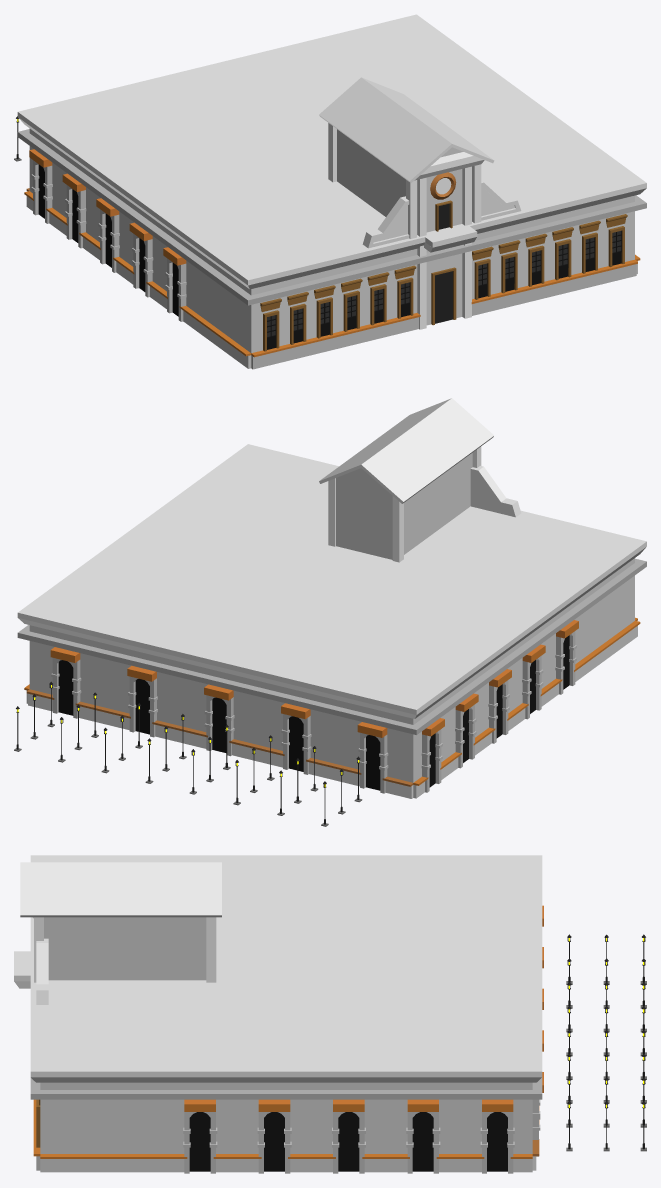
Rendered from ArtMuseum.glb.
The picture shows the model from 3 angles, top to bottom: view 1: azimuth 30°, elevation 25°; view 2: azimuth 150°, elevation 25°; view 3: azimuth 270°, elevation 25°; orthographic projection. The views are drawn at different scales.
Parts seen in each view (by area): view 1: Cube.007, Cube.001, Cube.002, Cube.004, Cube.006, Plane.002, Cube.003, Cube.005, Cube.009, Plane, Circle; view 2: Cube.007, Cube.001, Cube.004, Plane.003, Cube.006, Plane.002, Cube.003, Cube.009, Farol.001, Cube.005; view 3: Cube.007, Cube.001, Cube.004, Plane.002, Cube.008, Cube.006, Farol.001, Cube.005, Cube.003, Plane.003.
Boxes of the visible parts, left/top/right/bottom form: Cube.007: left=17, top=14, right=646, bottom=289; Cube.001: left=29, top=128, right=634, bottom=353; Cube.002: left=260, top=214, right=627, bottom=351; Cube.004: left=319, top=77, right=521, bottom=248; Cube.006: left=17, top=129, right=646, bottom=305; Plane.002: left=29, top=149, right=186, bottom=321; Cube.003: left=26, top=188, right=637, bottom=369; Cube.005: left=328, top=123, right=484, bottom=329; Cube.009: left=24, top=191, right=251, bottom=368; Plane: left=431, top=267, right=456, bottom=325; Circle: left=430, top=172, right=456, bottom=199; Cube.007: left=17, top=444, right=646, bottom=718; Cube.001: left=29, top=453, right=634, bottom=782; Cube.004: left=319, top=398, right=521, bottom=517; Plane.003: left=50, top=647, right=388, bottom=793; Cube.006: left=17, top=558, right=646, bottom=734; Plane.002: left=421, top=620, right=578, bottom=792; Cube.003: left=26, top=617, right=637, bottom=798; Cube.009: left=413, top=620, right=640, bottom=798; Farol.001: left=14, top=681, right=362, bottom=826; Cube.005: left=328, top=446, right=481, bottom=562; Cube.007: left=14, top=855, right=542, bottom=1082; Cube.001: left=40, top=917, right=532, bottom=1153; Cube.004: left=20, top=862, right=221, bottom=1004; Plane.002: left=183, top=1099, right=514, bottom=1173; Cube.008: left=40, top=1154, right=532, bottom=1172; Cube.006: left=30, top=1077, right=542, bottom=1099; Farol.001: left=566, top=934, right=646, bottom=1151; Cube.005: left=33, top=917, right=216, bottom=982; Cube.003: left=33, top=1099, right=539, bottom=1170; Plane.003: left=532, top=905, right=543, bottom=1156.
Bounding box in the file's own units: 41.85 × 18.34 × 51.43.
Materials: 2 (1 with a texture image).
